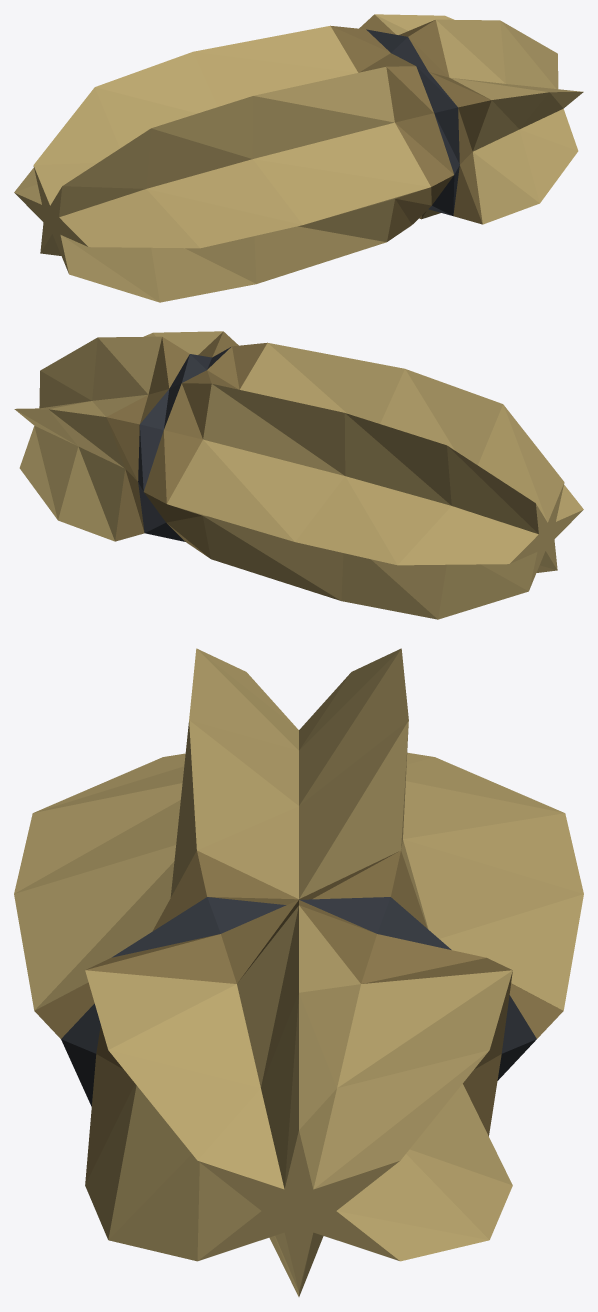
Rendered from hay_wisp.glb.
3 views of the same model, one above another, from view 1: azimuth 30°, elevation 25°; view 2: azimuth 150°, elevation 25°; view 3: azimuth 270°, elevation 25° (orthographic). The views are drawn at different scales.
Parts seen in each view (by area): view 1: hay_wisp; view 2: hay_wisp; view 3: hay_wisp.
Boxes of the visible parts, left/top/right/bottom form: hay_wisp: left=14, top=14, right=583, bottom=302; hay_wisp: left=14, top=331, right=583, bottom=619; hay_wisp: left=14, top=648, right=583, bottom=1296.
Bounding box in the file's own units: 0.085 × 0.0313 × 0.0451.
